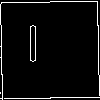I: (24, 24, 41, 72)
